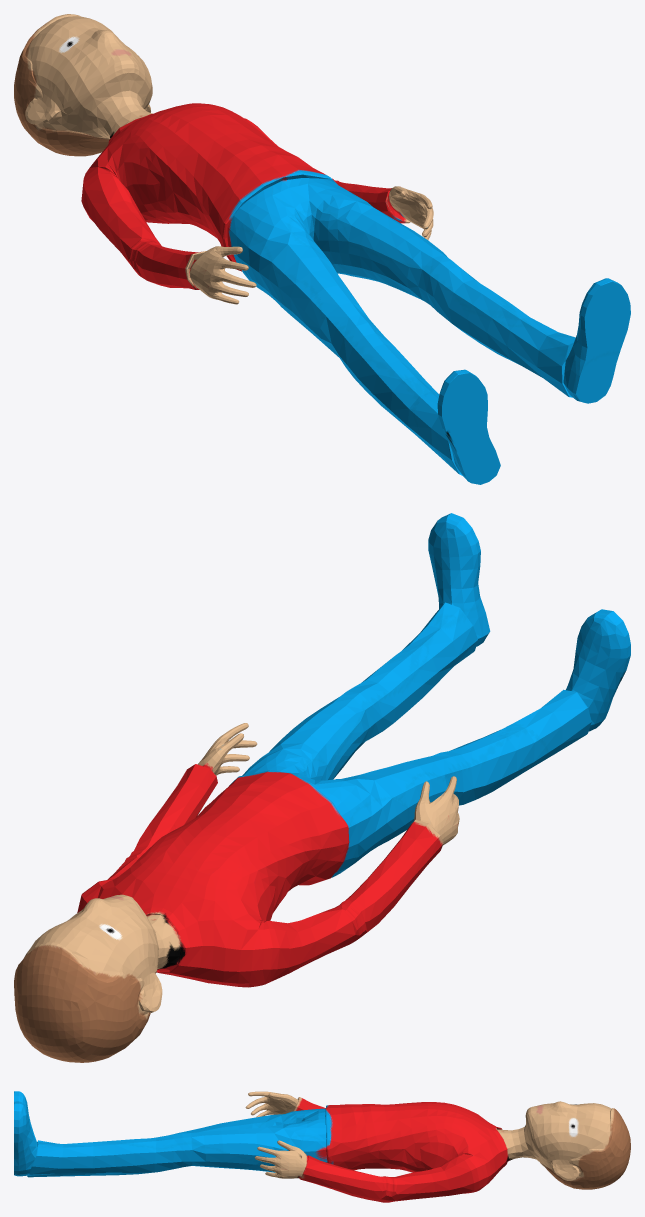
The model's file is chelik4.fbx.
The picture shows the model from 3 angles, top to bottom: view 1: azimuth 30°, elevation 25°; view 2: azimuth 150°, elevation 25°; view 3: azimuth 270°, elevation 25°; orthographic projection. The views are drawn at different scales.
Visible parts, largest first — view 1: node_id5; view 2: node_id5; view 3: node_id5.
Boxes of the visible parts, box(x1,y1,x2,y2) form: node_id5: box(14, 14, 630, 484); node_id5: box(14, 513, 630, 1062); node_id5: box(14, 1091, 630, 1202).
Bounding box in the file's own units: 0.1452 × 0.1018 × 0.5064.
Materials: 1 (1 with a texture image).
